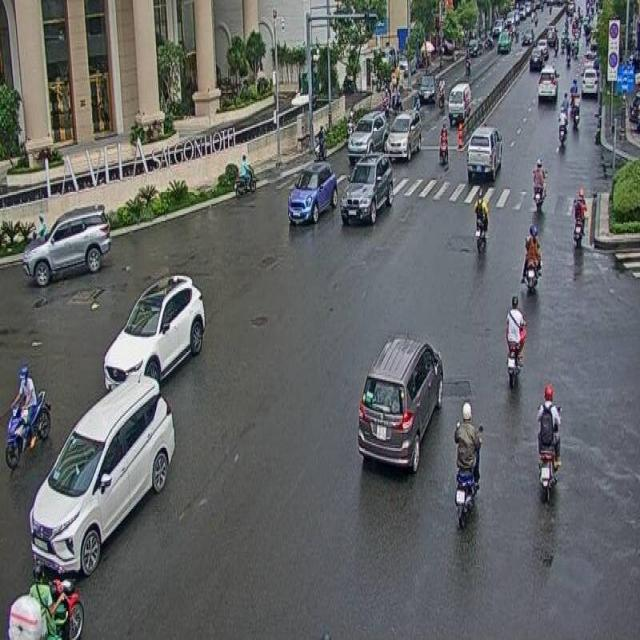car: (34, 381, 176, 579), (355, 332, 445, 476), (102, 271, 206, 387), (18, 200, 111, 286), (340, 151, 394, 227), (287, 157, 338, 224), (465, 128, 498, 181)
motorcycle: (4, 367, 50, 460), (451, 401, 484, 521), (536, 381, 562, 488), (506, 293, 524, 392), (522, 223, 542, 291), (571, 188, 588, 245), (474, 186, 488, 251), (532, 156, 546, 213)
